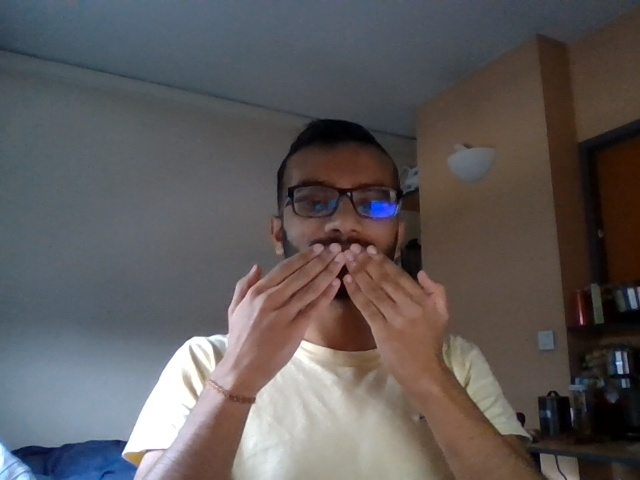Thanks: (187, 235, 473, 365)
